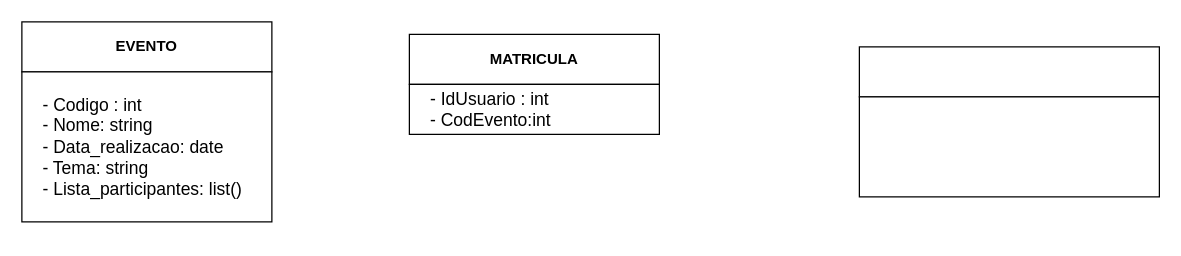
The diagram is 1181 pixels wide and 256 high, and some of its shapes have lost their labels. Here are the shapes that lost their labels. From the top down, the centre of each, then its label:
the point at 1008,71: USUA RIO
the point at 1008,146: - Id: int - Nome_completo: string - Email: string - Preferencia_tematica: string
